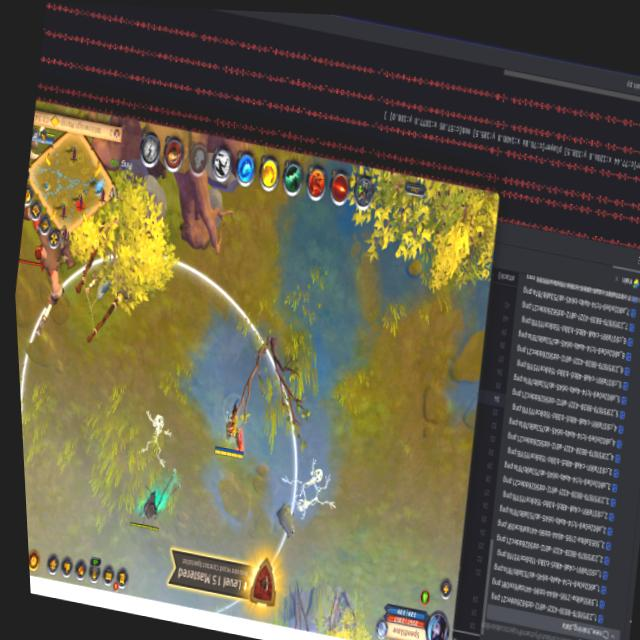ore: (10, 190, 106, 348), (269, 498, 304, 545)
red: (205, 387, 256, 463)
